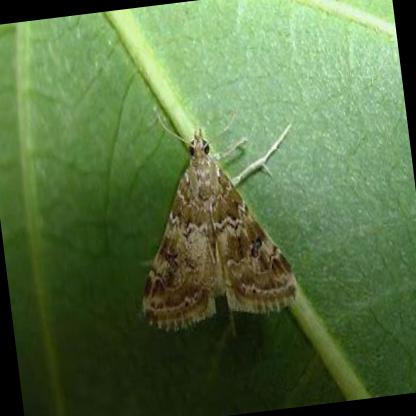Hellula undalis: (134, 102, 301, 334)
